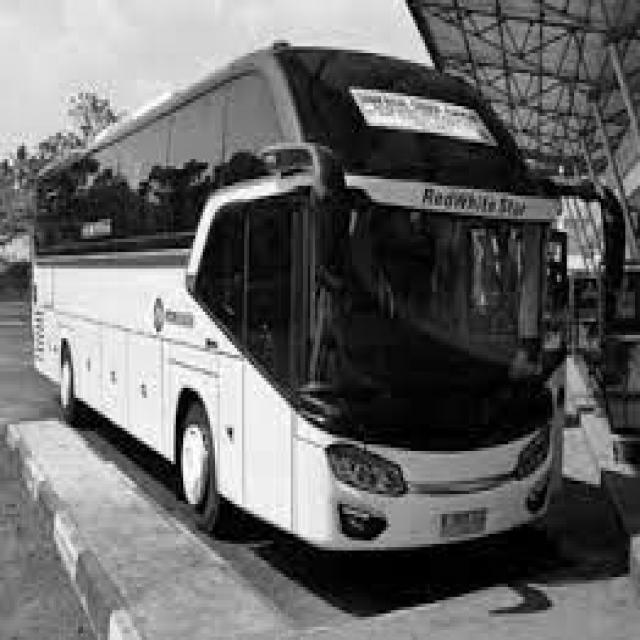Bus: (34, 43, 557, 552)
